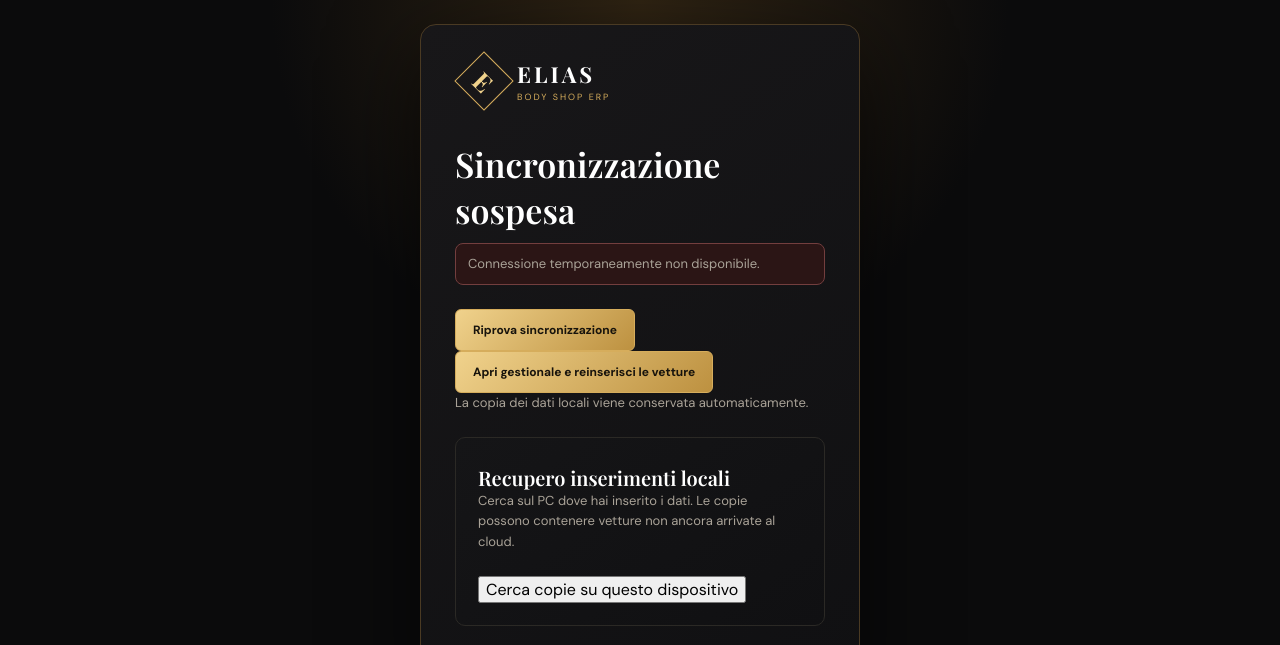
Scenario: avvio e salvataggio cloud › consente di riprovare dopo un errore iniziale senza modificare l’archivio locale
Expected: the message reads "Connessione temporaneamente non disponibile.", [468,255,760,272]
What coordinates should you click on to do the following:
click the button "Riprova sincronizzazione"
I would click on:
 (545, 330)
Its box is [455,309,635,351].
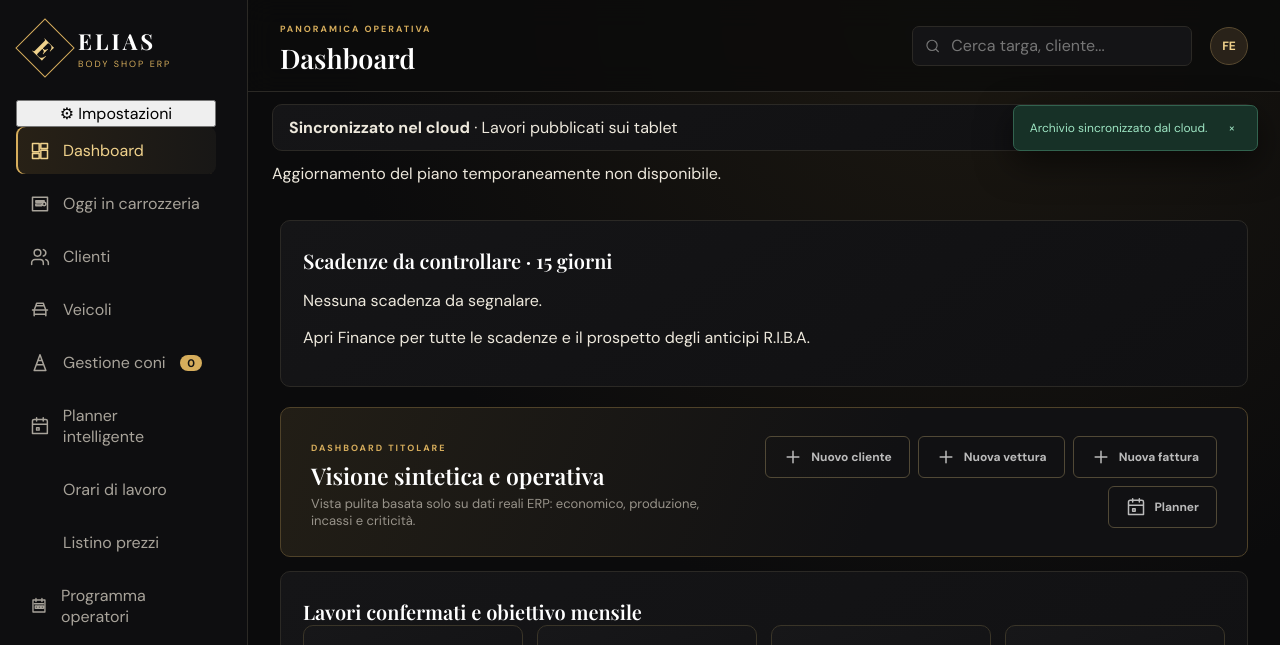
Expected: the text "Archivio sincronizzato dal cloud." is shown, [1030,120,1207,136]
